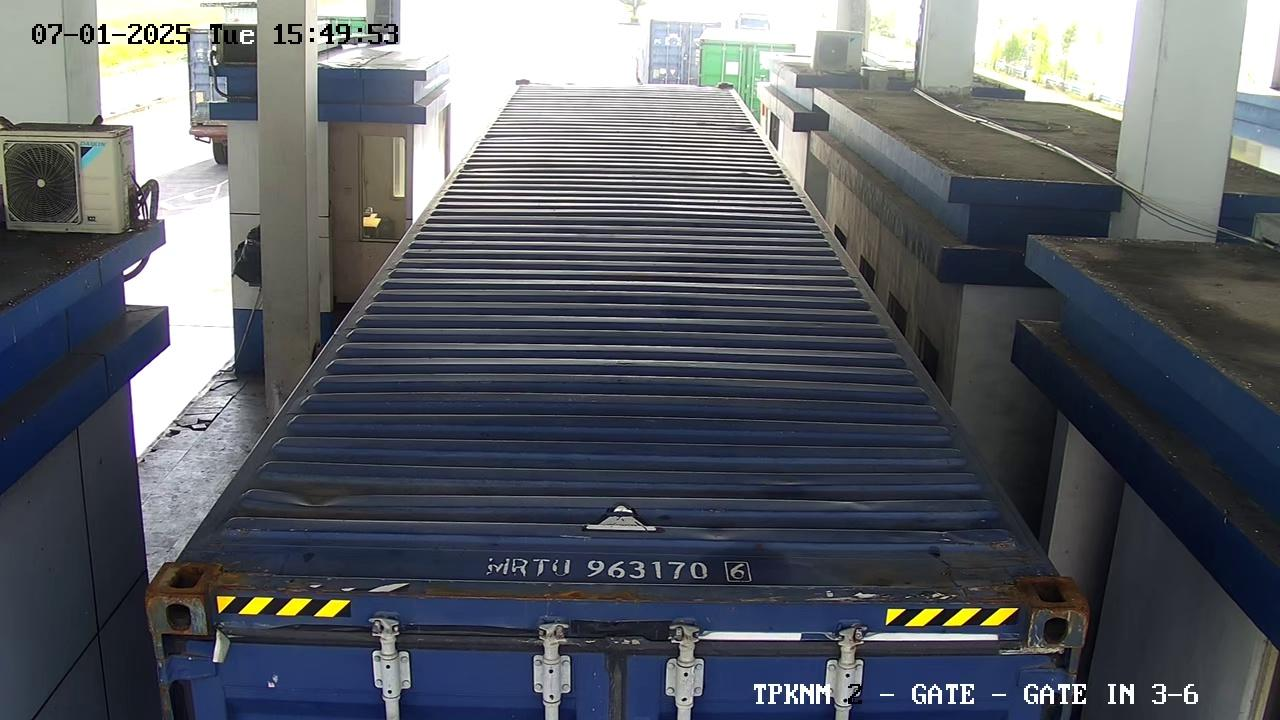Container_ID: (463, 540, 759, 600)
